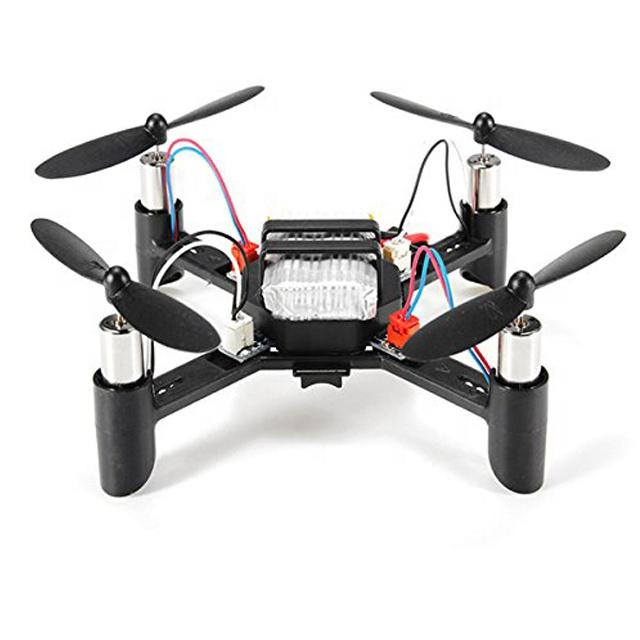drone: (0, 88, 640, 495)
